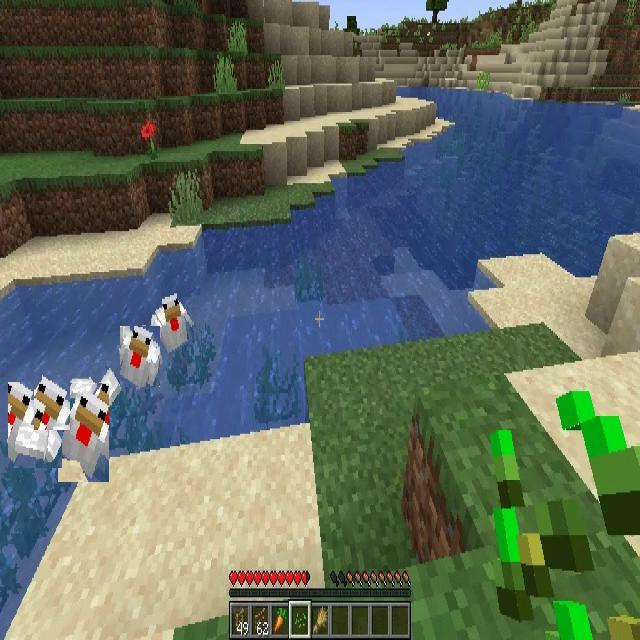duck: (58, 383, 109, 482), (8, 382, 62, 468), (150, 293, 191, 353), (120, 326, 160, 387), (34, 375, 70, 430)
